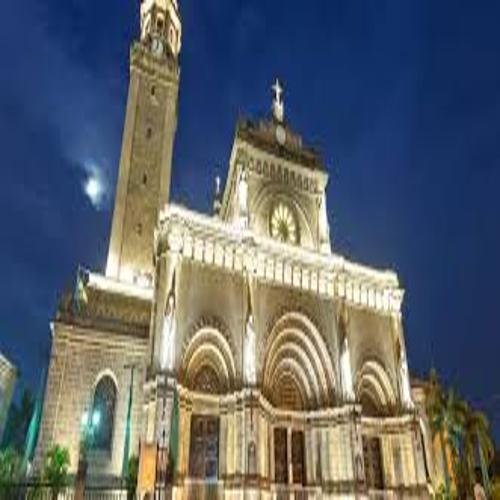Manila Cathedral Church: (42, 1, 440, 497)
